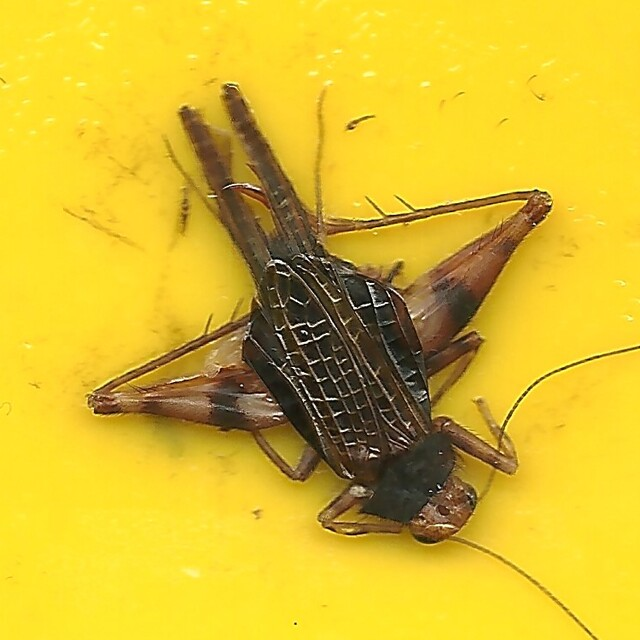Orthoptera: (85, 83, 555, 557)
